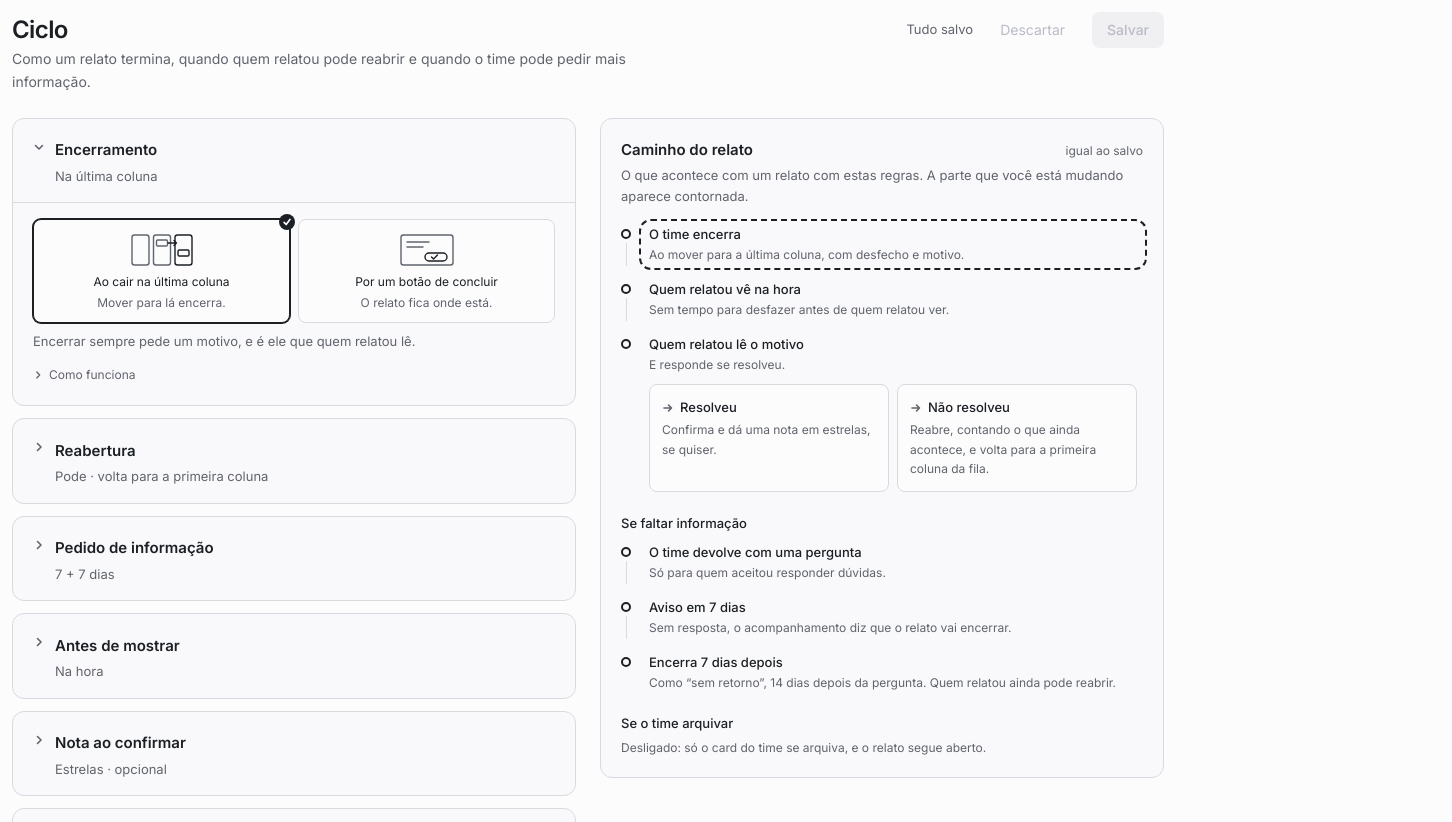
Scenario: CycleSettingsScreen › mudar liga o Salvar com a conta, e descartar volta ao que está salvo sem gravar
Click the radio button labelled "Por um botão de concluir O relato fica onde está." at (426, 271), box [299,220,554,322]
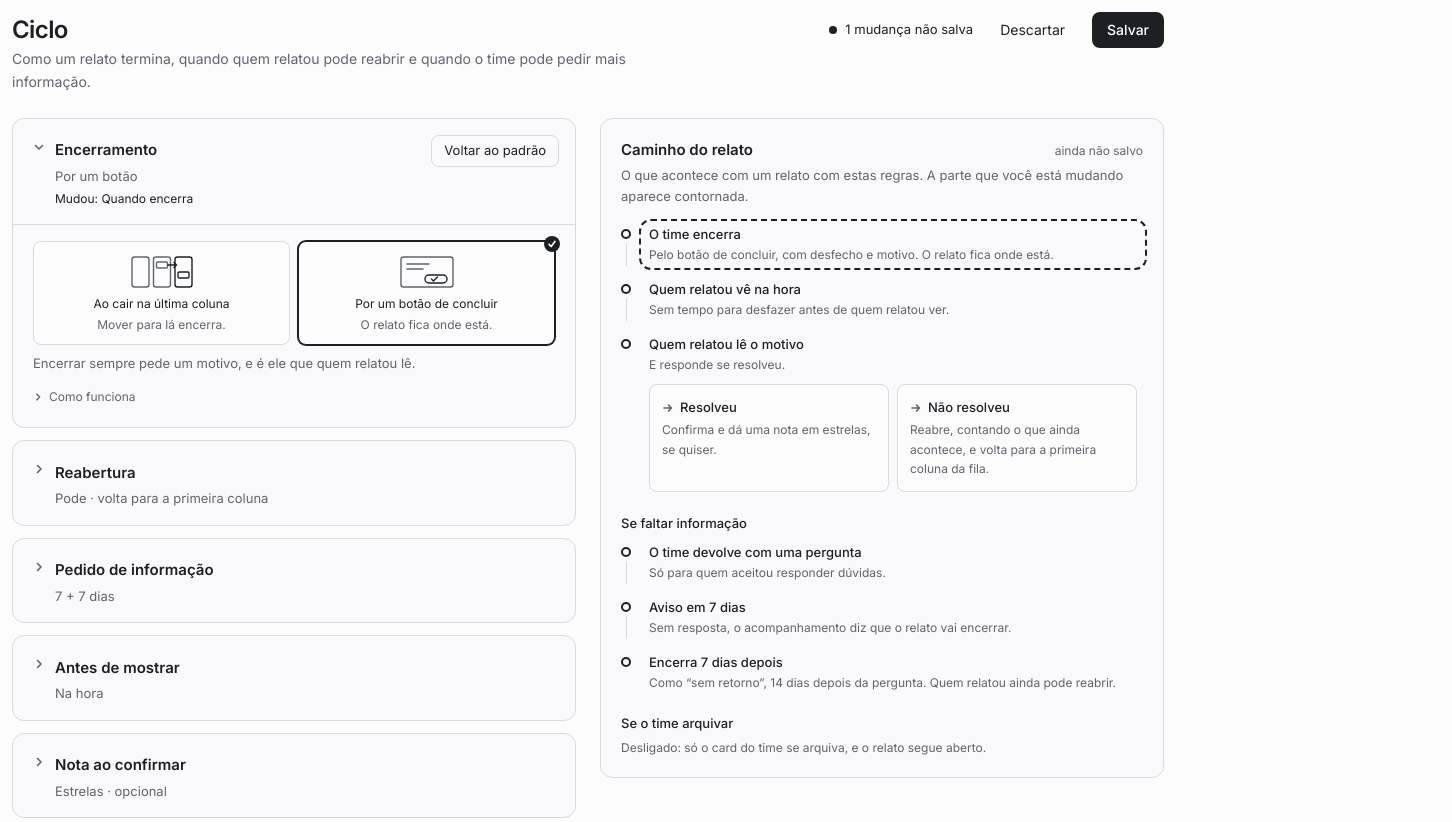
Result: the text "1 mudança não salva" is shown at [845,20,973,40]
Click the button "Descartar" at (1033, 30), box [985,12,1080,48]
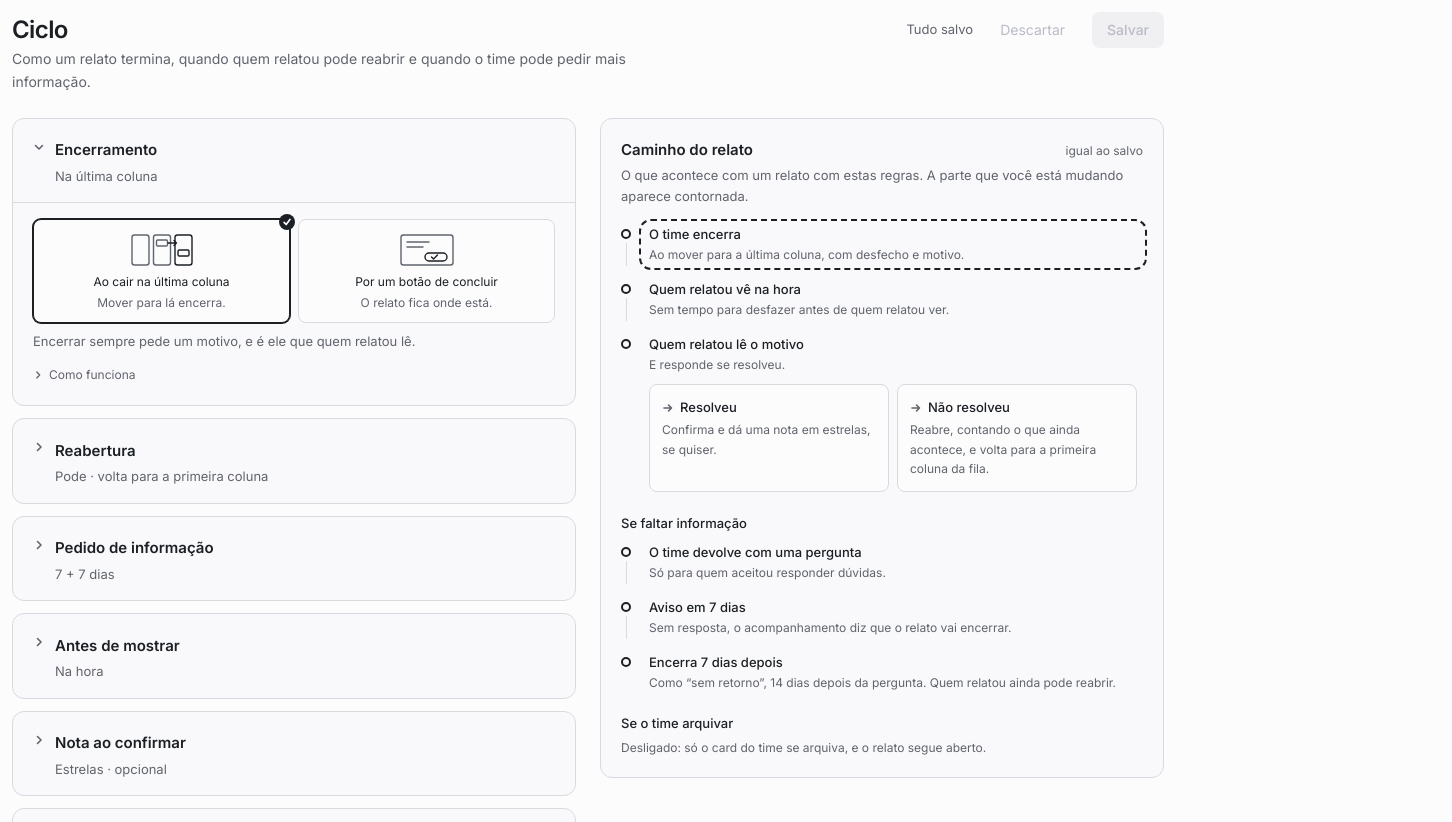
Result: the radio button labelled "Ao cair na última coluna Mover para lá encerra." is checked at [34,220,289,322]
Result: the text "Tudo salvo" is shown at [906,20,973,40]
